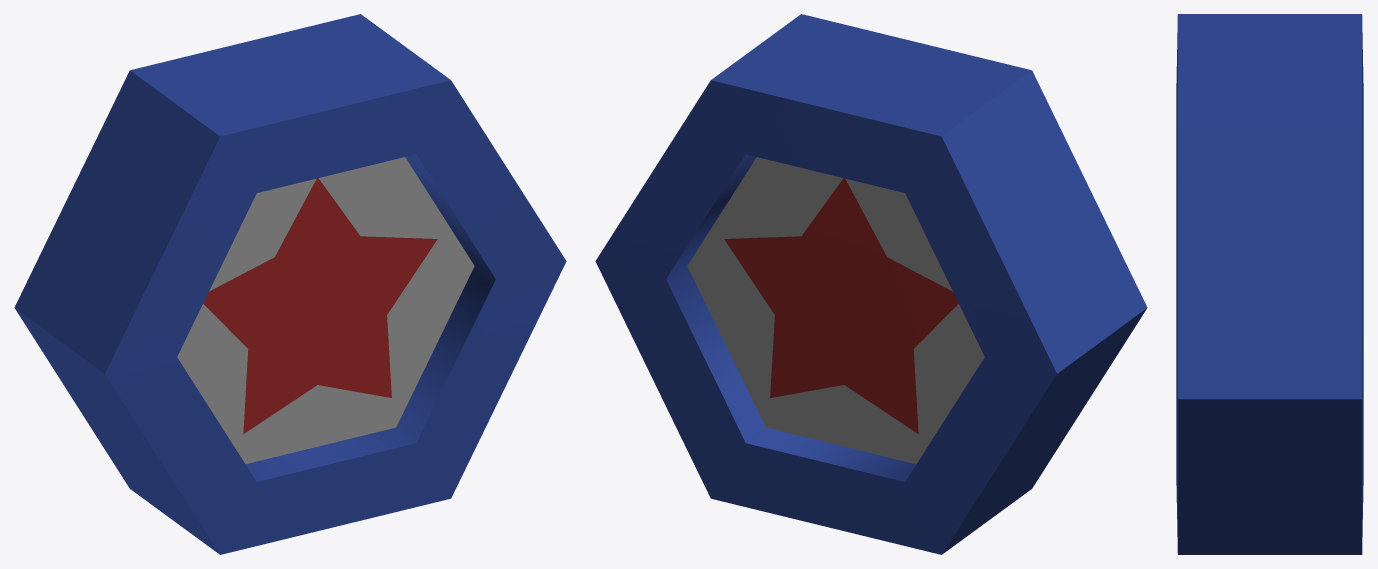
The model's file is star_box.fbx.
The picture shows the model from 3 angles, left to right: view 1: azimuth 30°, elevation 25°; view 2: azimuth 150°, elevation 25°; view 3: azimuth 270°, elevation 25°; orthographic projection.
Visible parts, largest first — view 1: star_box; view 2: star_box; view 3: star_box.
Part boxes in pixels (box(x1,y1,x2,y2)): star_box: box(14, 14, 566, 554); star_box: box(595, 14, 1147, 554); star_box: box(1176, 14, 1363, 554).
Bounding box in the file's own units: 48.59 × 42.08 × 16.78.
